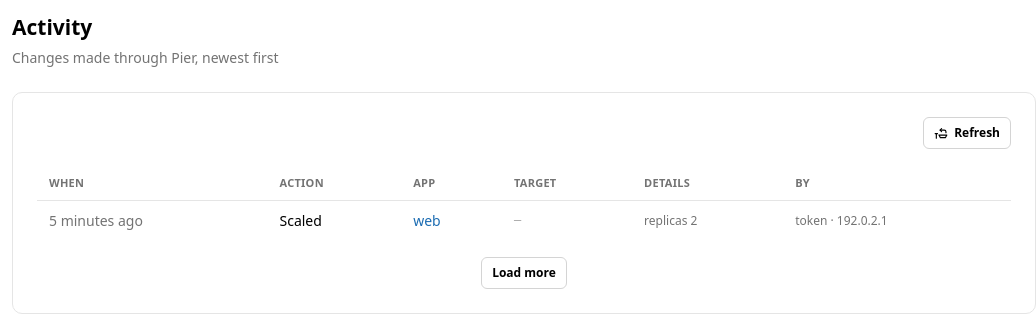
Test case: ActivityPage › loads older entries with Load more
This screenshot has width=1036, height=331.
Click the button "Load more" at (524, 273), box [481,257,567,289]
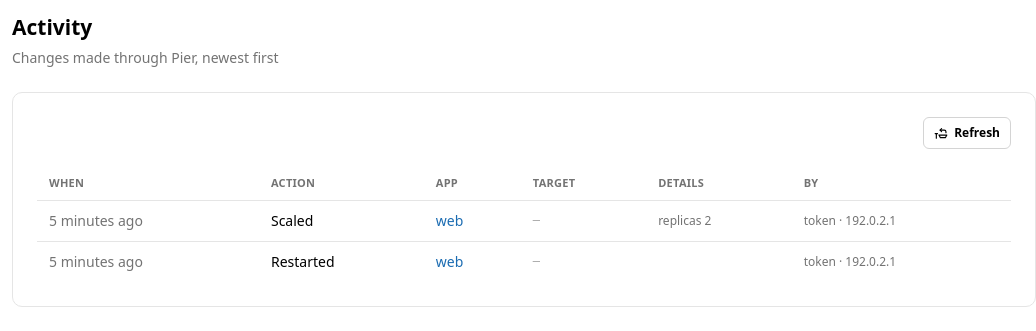
Check: the text "Restarted" is shown, box [259,242,424,282]
Check: the button "Load more" is gone
